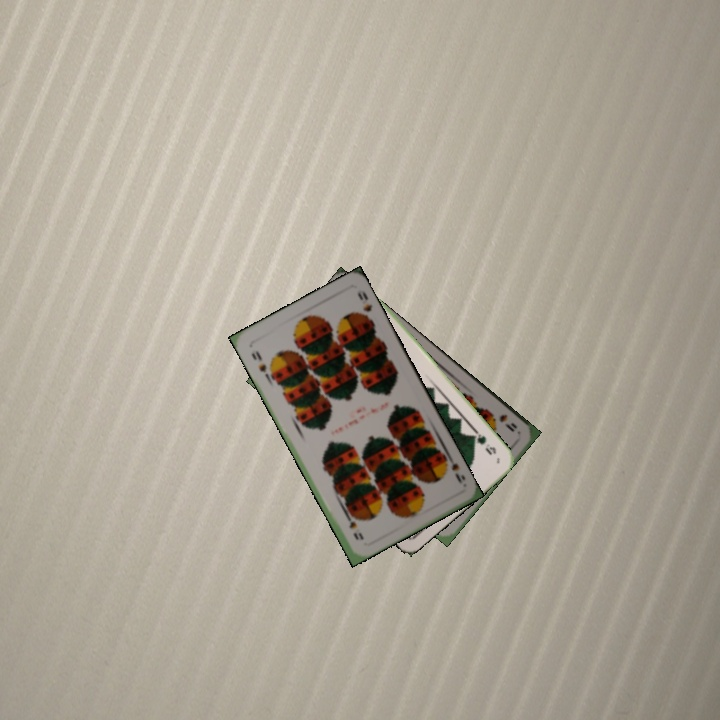G9: (467, 426, 499, 458)
S9: (438, 450, 468, 488), (485, 408, 520, 434), (247, 346, 274, 378)
